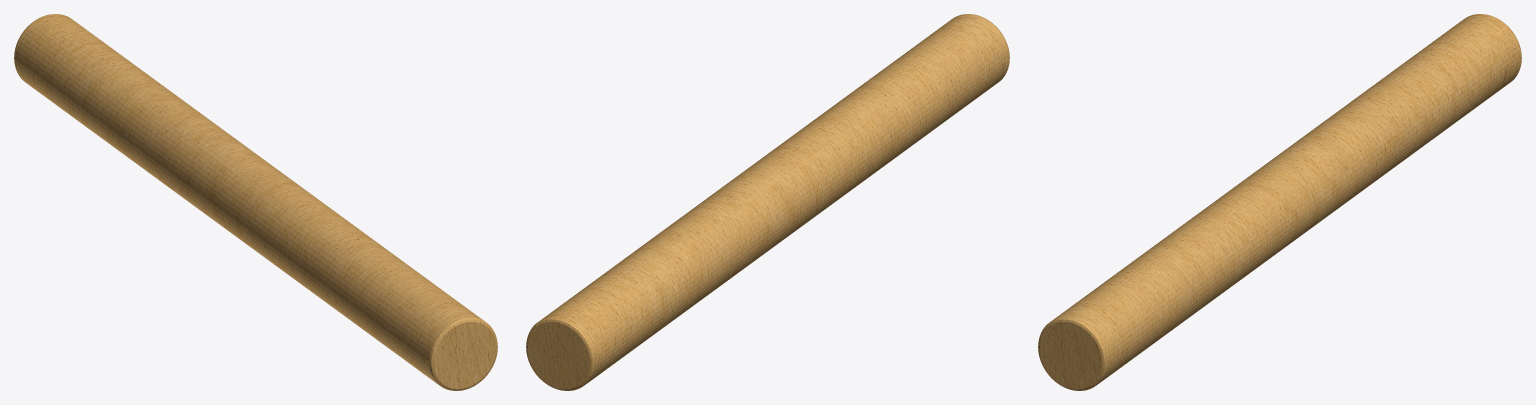
3 renders of one model, left to right at view 1: azimuth 30°, elevation 25°; view 2: azimuth 150°, elevation 25°; view 3: azimuth 330°, elevation 25°, orthographic.
Parts seen in each view (by area): view 1: bolt_washer_target_point; view 2: bolt_washer_target_point; view 3: bolt_washer_target_point.
Part boxes in pixels (<box>): bolt_washer_target_point: <box>14,14,497,390</box>; bolt_washer_target_point: <box>526,14,1009,390</box>; bolt_washer_target_point: <box>1038,14,1521,390</box>.
Size of the model in its own units: 0.008 by 0.008 by 0.085.
1 material, 1 textured.
